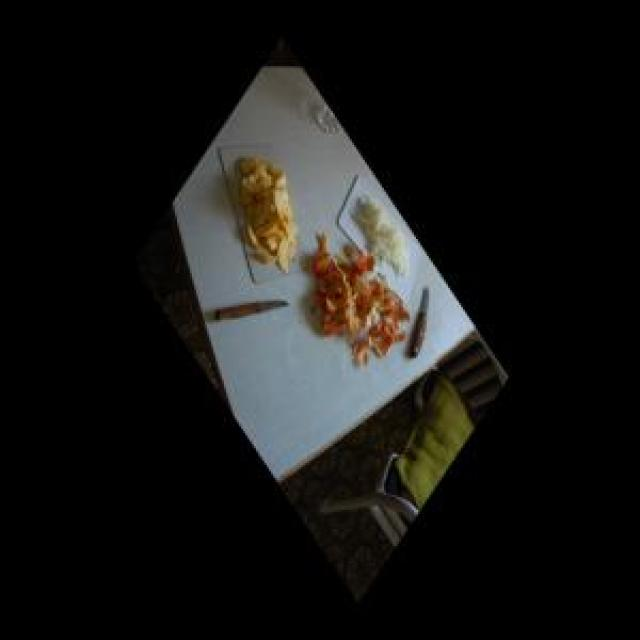knife: (214, 296, 294, 326), (410, 282, 434, 355)
